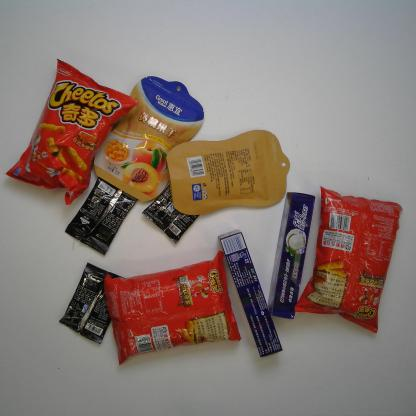Dried Fruit: (93, 75, 205, 203), (166, 128, 291, 217)
Instant Drink: (64, 177, 140, 256), (58, 262, 127, 346), (142, 171, 209, 245)
Personal Hygiene: (218, 229, 283, 358), (266, 191, 315, 320)
Puffed Food: (4, 57, 140, 206), (294, 185, 403, 335), (103, 250, 241, 366)
